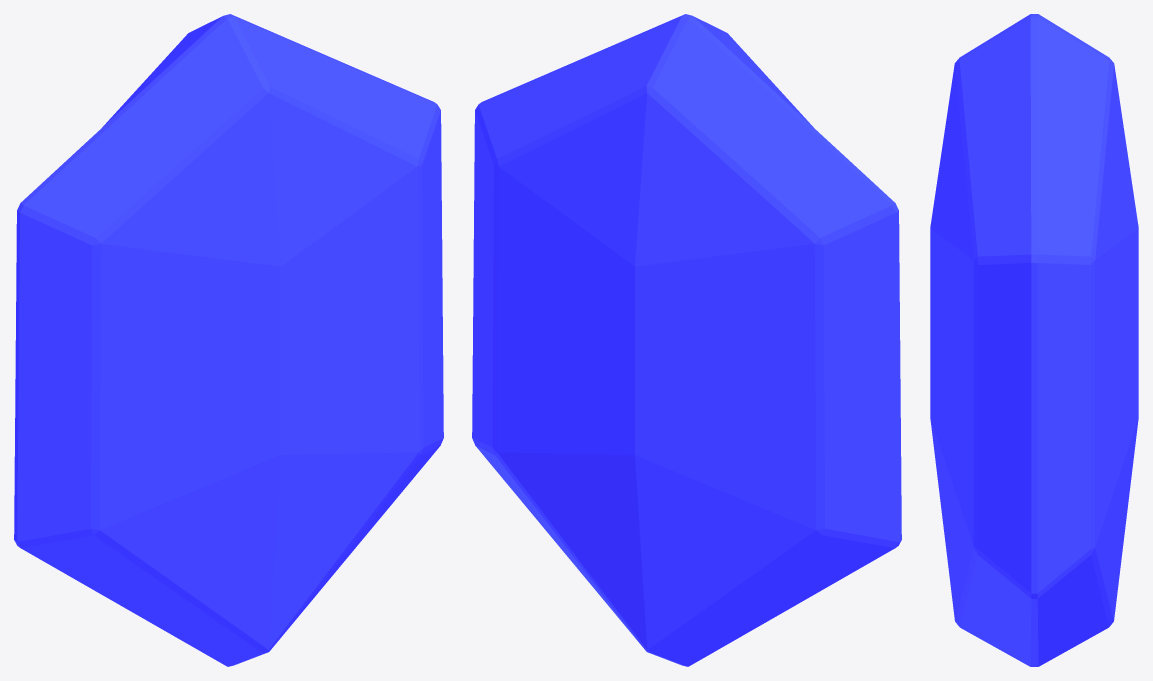
File: gema.fbx
The picture shows the model from 3 angles, left to right: view 1: azimuth 30°, elevation 25°; view 2: azimuth 150°, elevation 25°; view 3: azimuth 270°, elevation 25°; orthographic projection.
Parts seen in each view (by area): view 1: gema; view 2: gema; view 3: gema.
Part boxes in pixels (x1=…): gema: x1=14, y1=14, x2=443, y2=666; gema: x1=472, y1=14, x2=901, y2=666; gema: x1=930, y1=14, x2=1138, y2=666.
Bounding box in the file's own units: 221 × 321 × 93.51.
